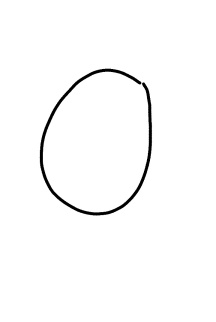Circle: (35, 66, 155, 218)
